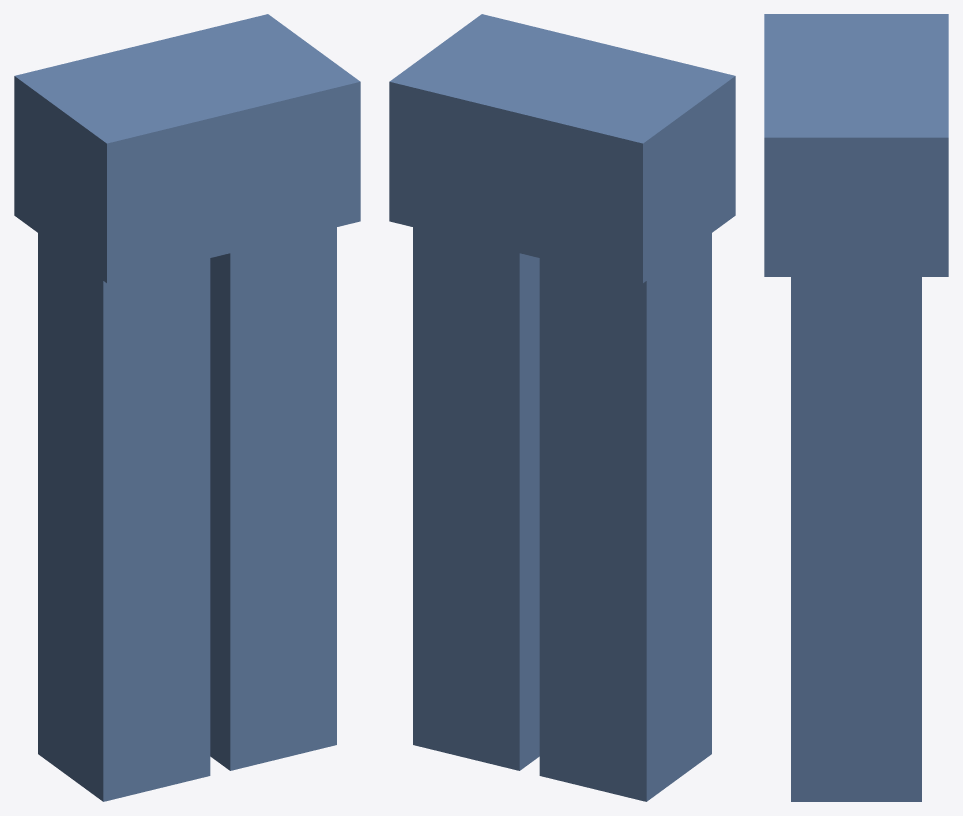
File: bottom.glb
3 views of the same model, side by side, from view 1: azimuth 30°, elevation 25°; view 2: azimuth 150°, elevation 25°; view 3: azimuth 270°, elevation 25° (orthographic).
Visible parts, largest first — view 1: bottom; view 2: bottom; view 3: bottom.
Part boxes in pixels (left/top/right/bottom): bottom: left=14, top=14, right=360, bottom=801; bottom: left=389, top=14, right=735, bottom=801; bottom: left=764, top=14, right=948, bottom=801.
Bounding box in the file's own units: 0.38 × 0.96 × 0.24.
